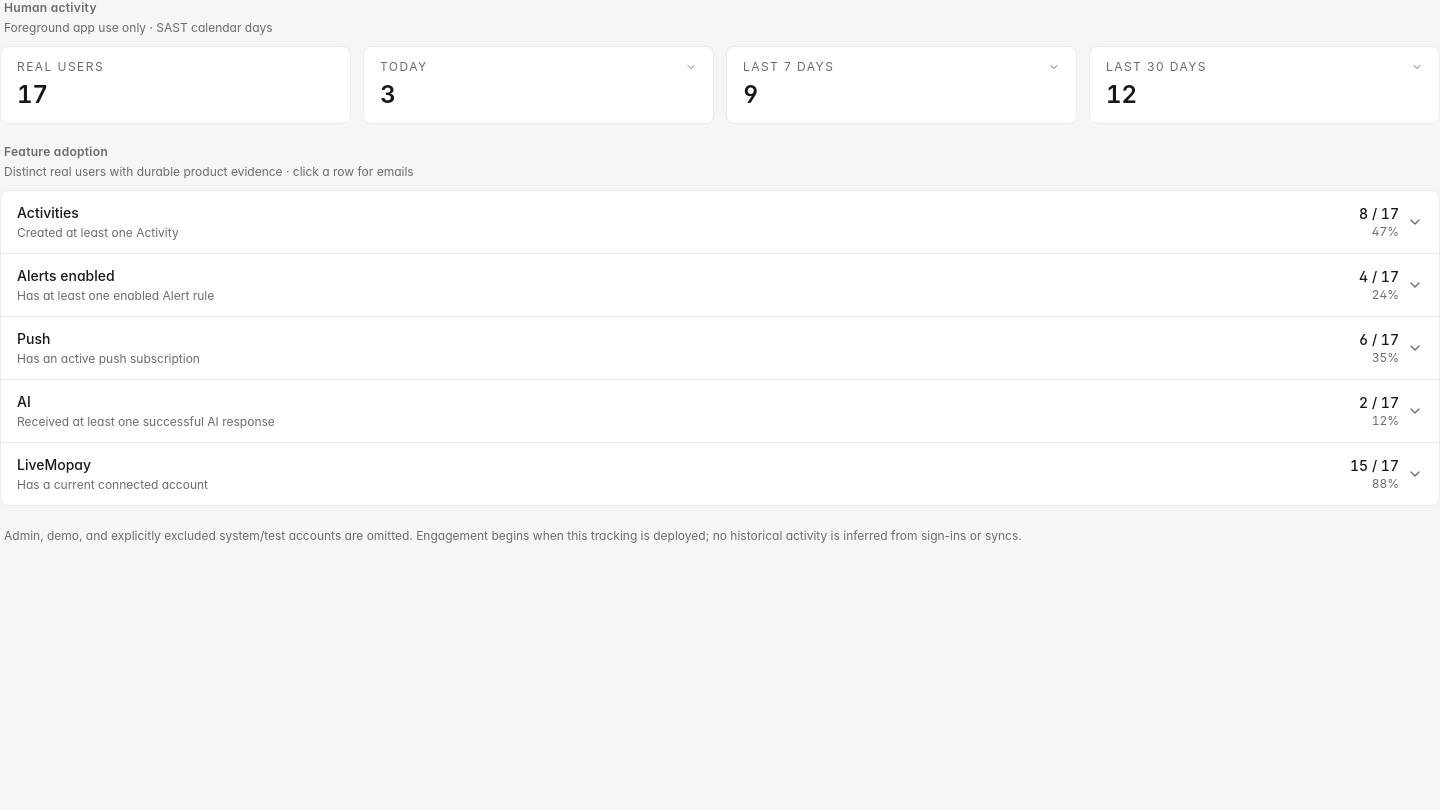
it: EngagementPanel › expands the Today activity tile and loads only that window's users
What coordinates should you click on to do the following:
click the button "Today 3"
I would click on:
 (404, 66)
Its box is [364,47,713,123].
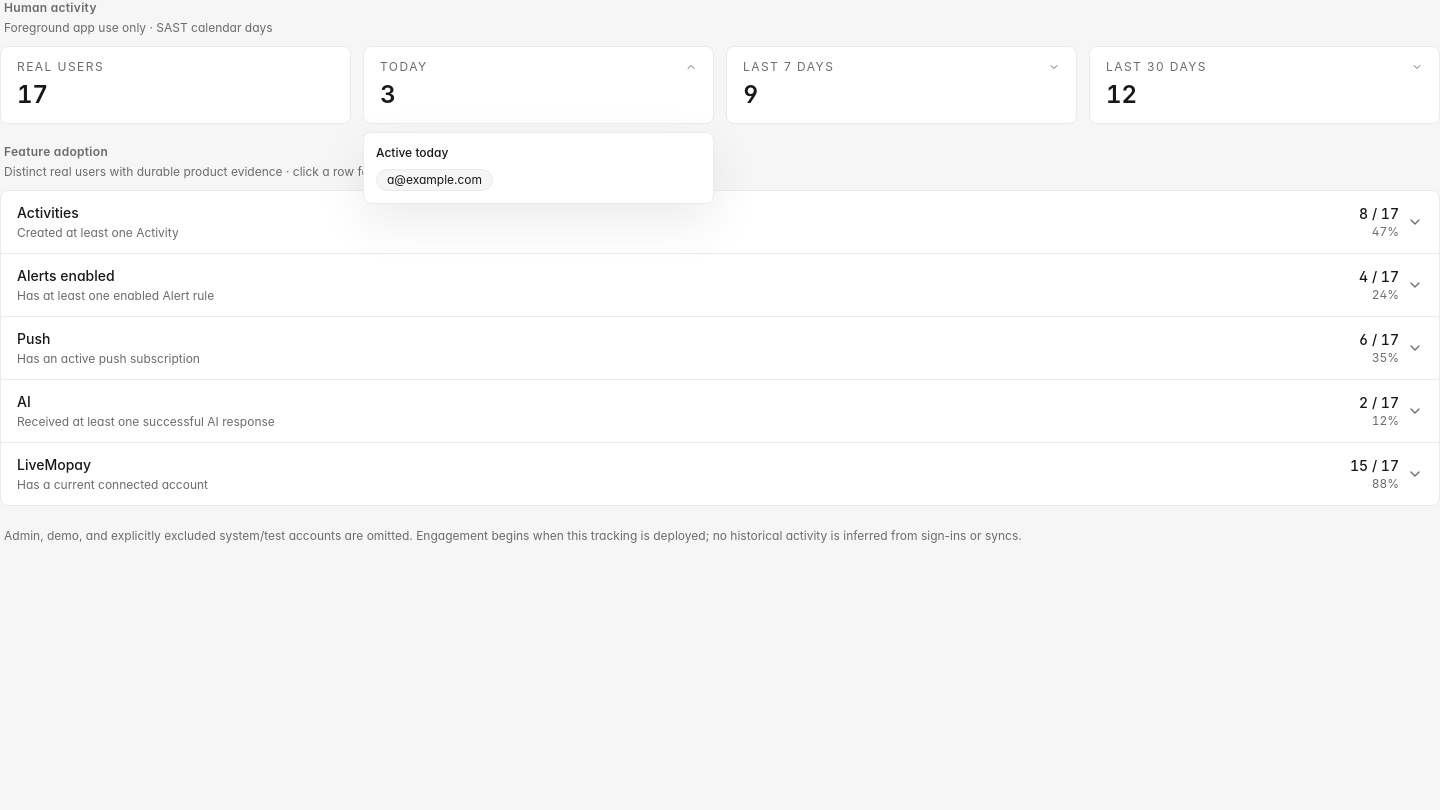
Check: the button "Last 7 days 9" is shown, box [727,47,1076,123]
Check: the text "a@example.com" is shown, box [376,169,493,191]
